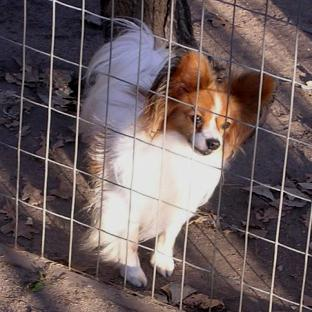Animal: (79, 19, 275, 286)
